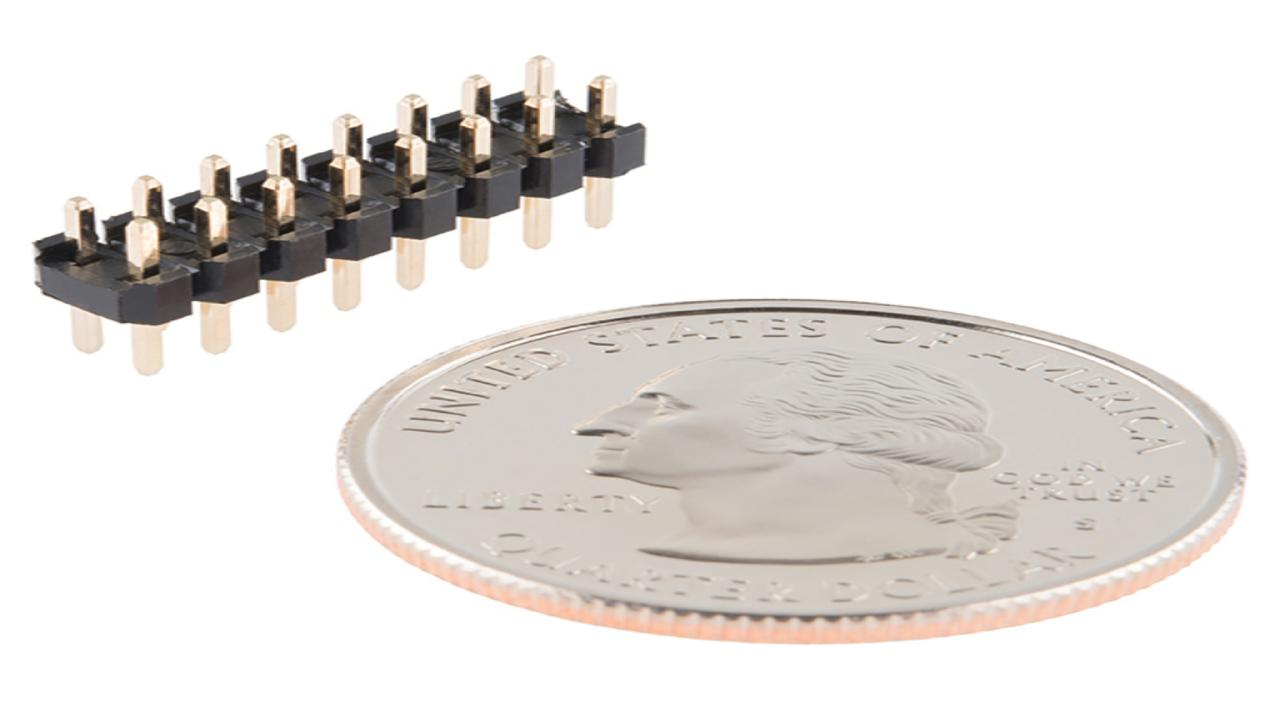coin: (331, 295, 1254, 645)
